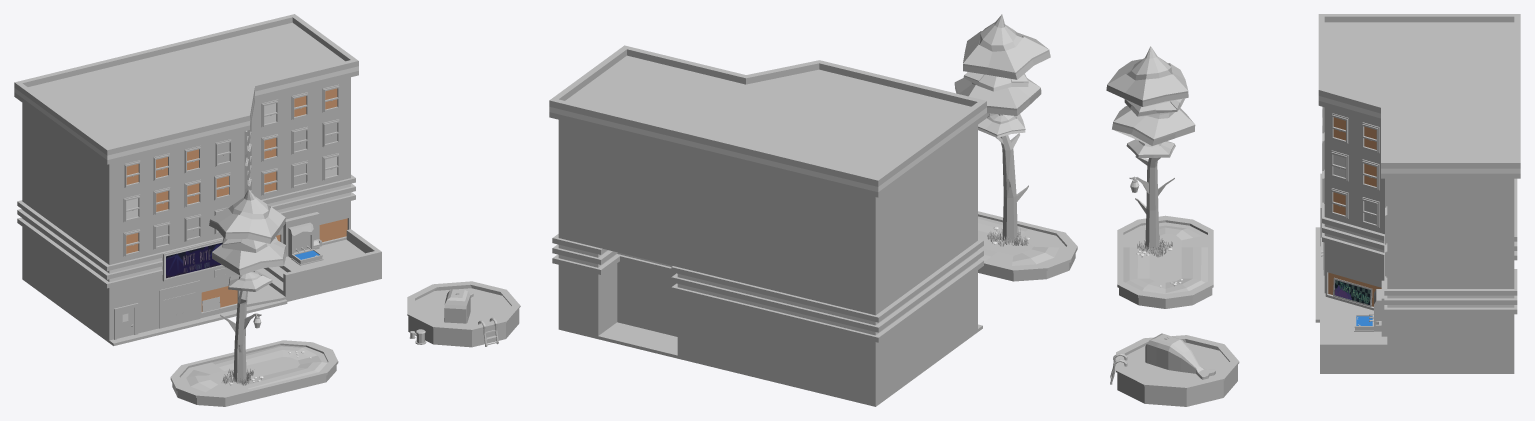
File: Building_NightBite.fbx
The picture shows the model from 3 angles, left to right: view 1: azimuth 30°, elevation 25°; view 2: azimuth 150°, elevation 25°; view 3: azimuth 270°, elevation 25°; orthographic projection. The views are drawn at different scales.
Parts seen in each view (by area): view 1: Cube.839, Cylinder.401, TolSnowTree1.002, Cylinder.253, Cube.1309, Cube.1310, Cube.583, Cube.1306; view 2: Cube.839, TolSnowTree1.002, Cylinder.401; view 3: Cube.839, TolSnowTree1.002, Cylinder.401, Cylinder.253, Cube.583, Cube.1308, Cube.1310.
Boxes of the visible parts, x1,y1,x2,y2 form: Cube.839: (14,14,381,345); Cylinder.401: (170,340,338,406); TolSnowTree1.002: (209,189,287,385); Cylinder.253: (407,281,520,347); Cube.1309: (162,239,224,281); Cube.1310: (288,222,323,265); Cube.583: (444,289,473,323); Cube.1306: (117,308,133,338); Cube.839: (549,45,986,406); TolSnowTree1.002: (954,14,1050,246); Cylinder.401: (978,211,1077,281); Cube.839: (1315,14,1520,373); TolSnowTree1.002: (1106,46,1195,257); Cylinder.401: (1117,215,1213,308); Cylinder.253: (1116,335,1239,406); Cube.583: (1145,333,1215,379); Cube.1308: (1333,277,1372,306); Cube.1310: (1354,289,1381,331).
Size of the model in its own units: 2044 by 1137 by 1978.
